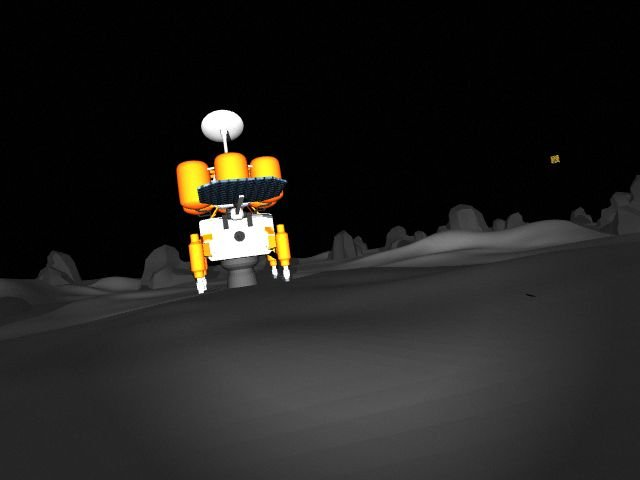homebase: (173, 108, 293, 295)
